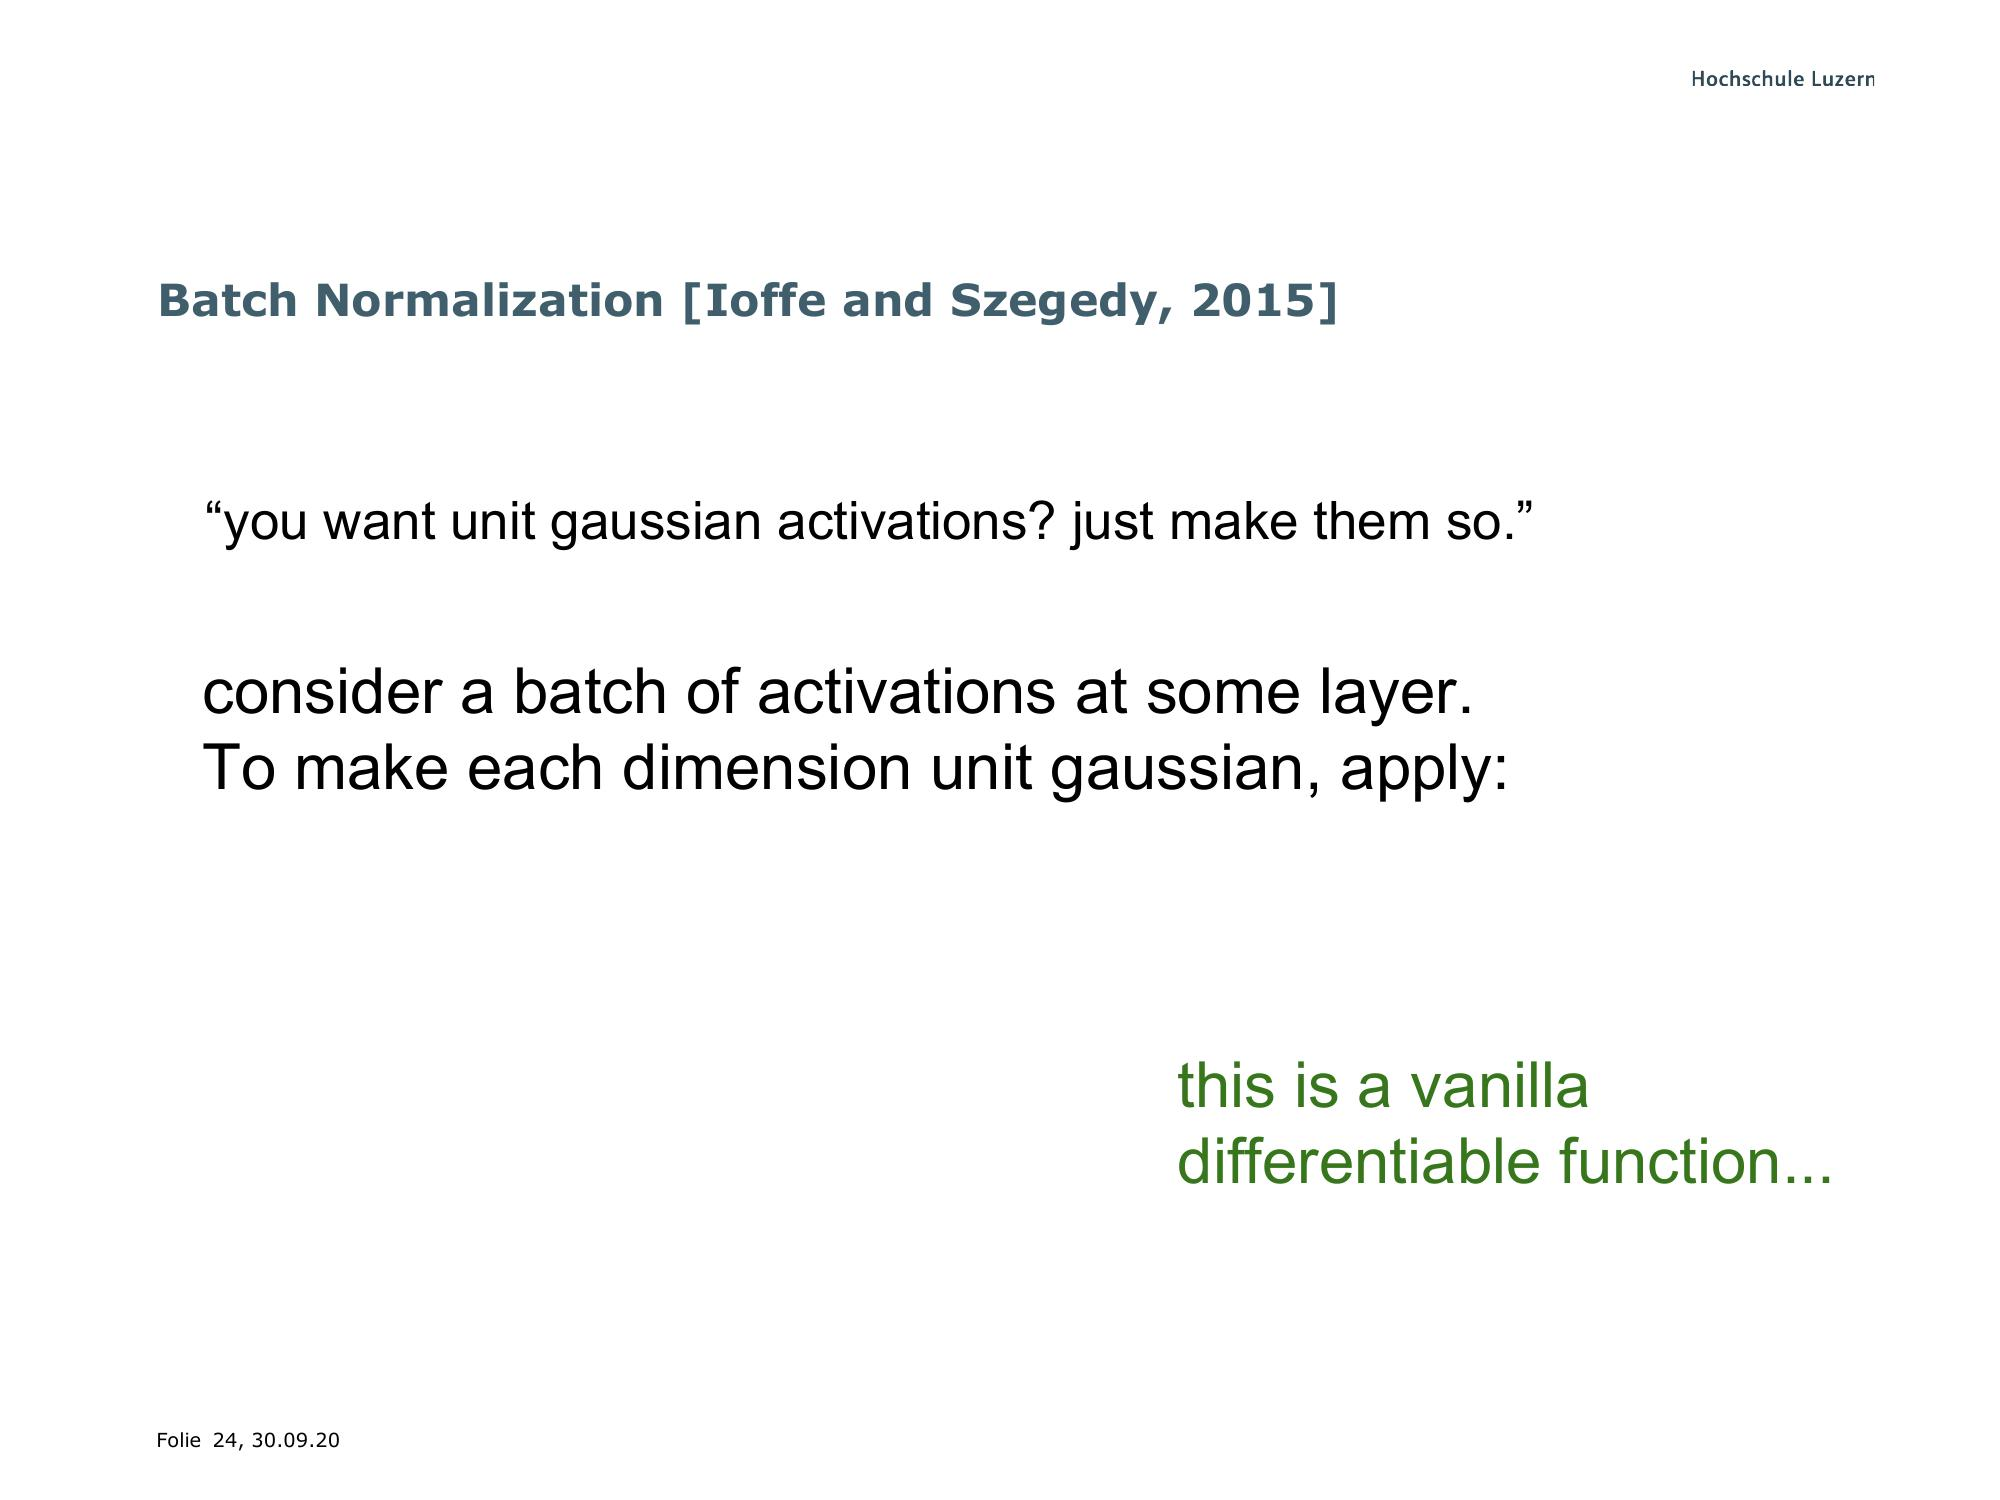Title: (128, 257, 1354, 334)
